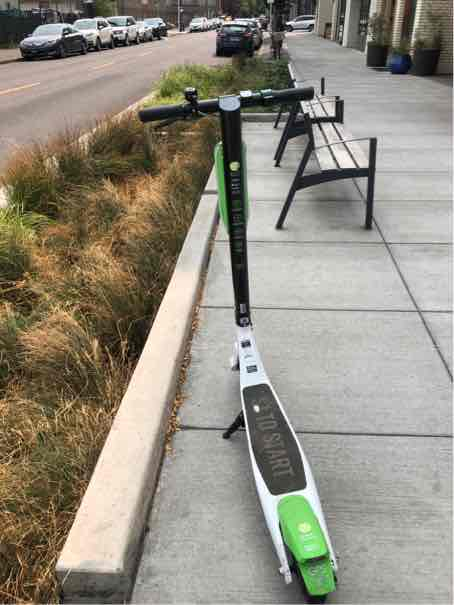scooter: (141, 71, 379, 602)
